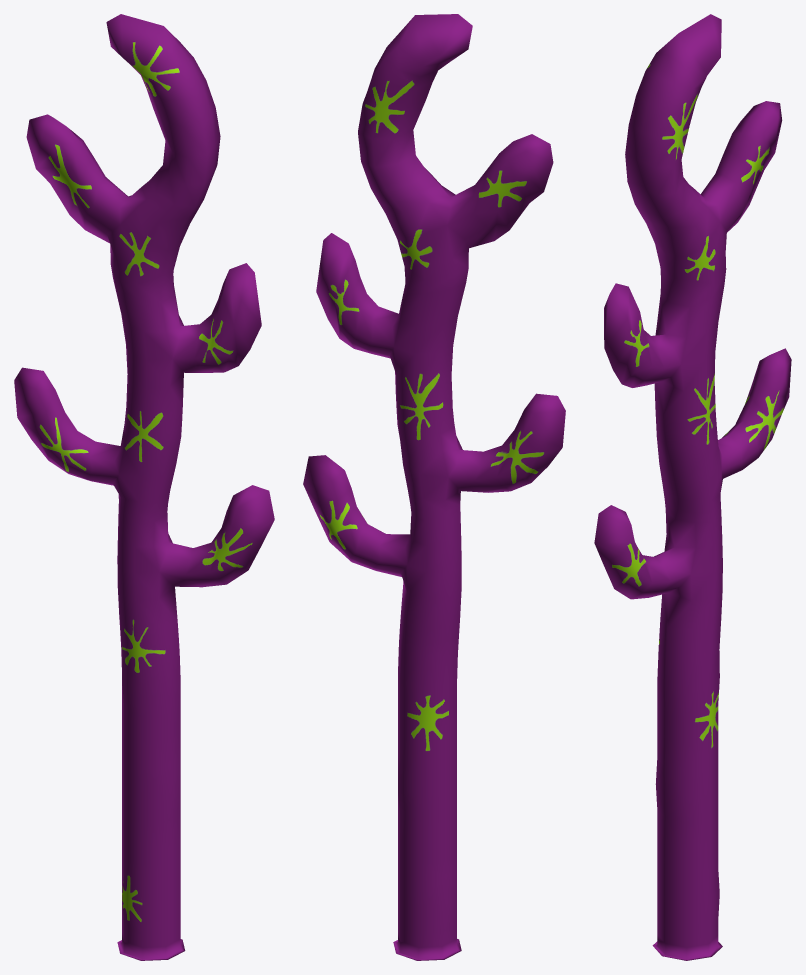
File: object_123.007_lev3.glb
3 renders of one model, left to right at view 1: azimuth 30°, elevation 25°; view 2: azimuth 210°, elevation 25°; view 3: azimuth 270°, elevation 25°, orthographic.
Visible parts, largest first — view 1: object_123.007_lev3; view 2: object_123.007_lev3; view 3: object_123.007_lev3.
Boxes of the visible parts, left/top/right/bottom form: object_123.007_lev3: left=14, top=14, right=274, bottom=960; object_123.007_lev3: left=303, top=14, right=565, bottom=960; object_123.007_lev3: left=594, top=14, right=791, bottom=960.
Size of the model in its own units: 1.93 by 10.61 by 2.05.
1 material, 1 textured.
